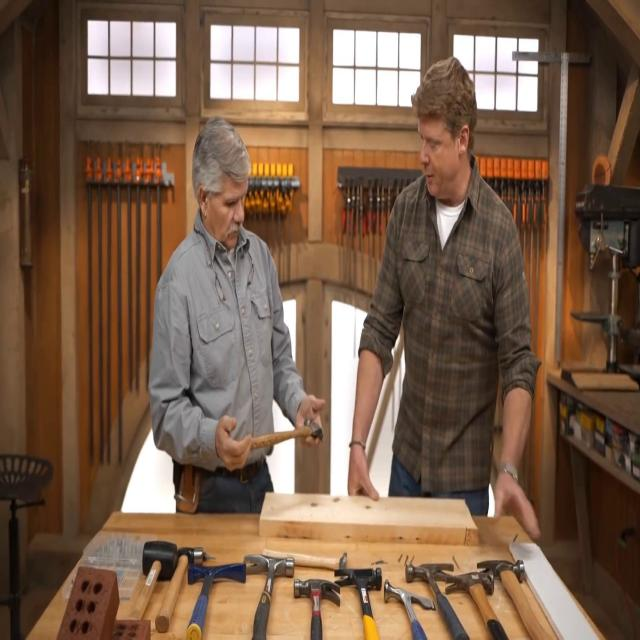hammer: (478, 558, 550, 640), (407, 563, 468, 640), (446, 567, 509, 640), (188, 564, 248, 638), (246, 555, 294, 640), (158, 546, 205, 631), (133, 541, 178, 622), (333, 567, 382, 640), (383, 579, 433, 640), (294, 578, 342, 640), (250, 420, 324, 453), (264, 548, 348, 577)
